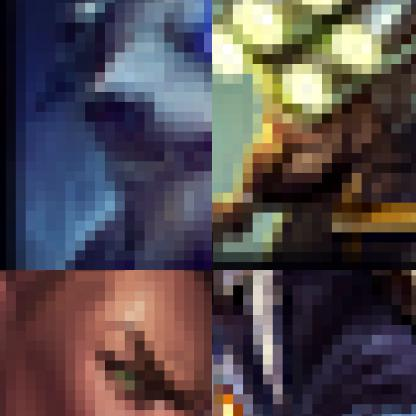Lucian: (0, 270, 211, 415)
Master Yi: (212, 0, 415, 269)
Rumble: (212, 270, 415, 415)
Volibear: (0, 0, 211, 269)
